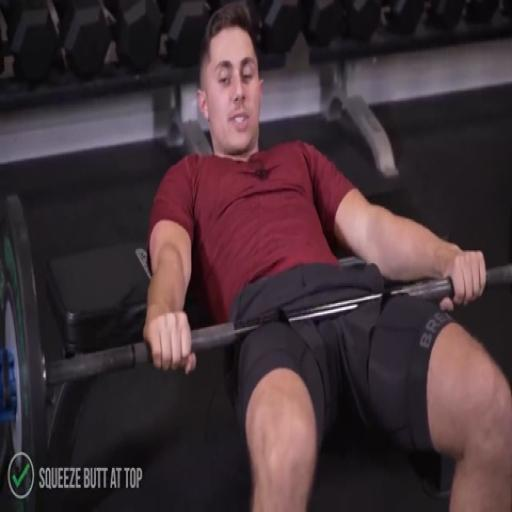exercise: (140, 2, 511, 510)
